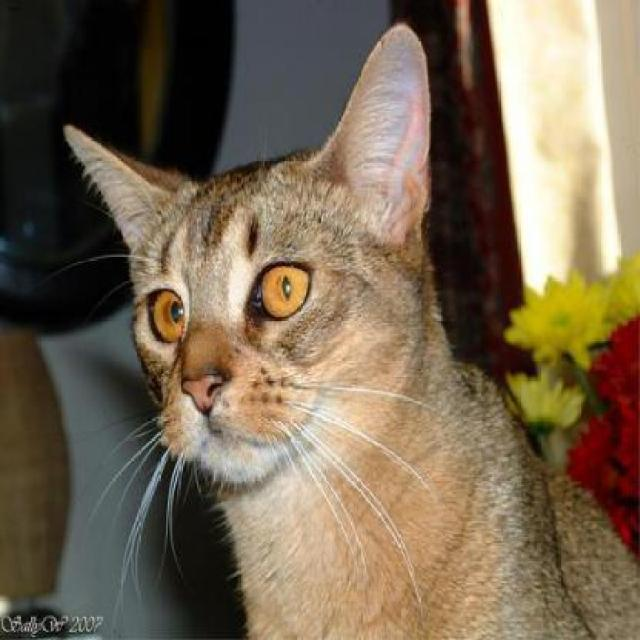cat: (62, 20, 640, 638)
